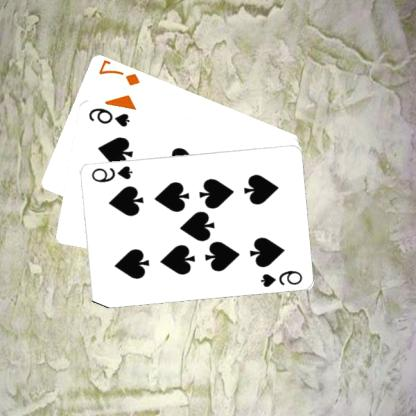6S: (87, 104, 133, 128)
7D: (98, 58, 143, 86)
9S: (90, 162, 135, 184), (259, 267, 305, 288)
